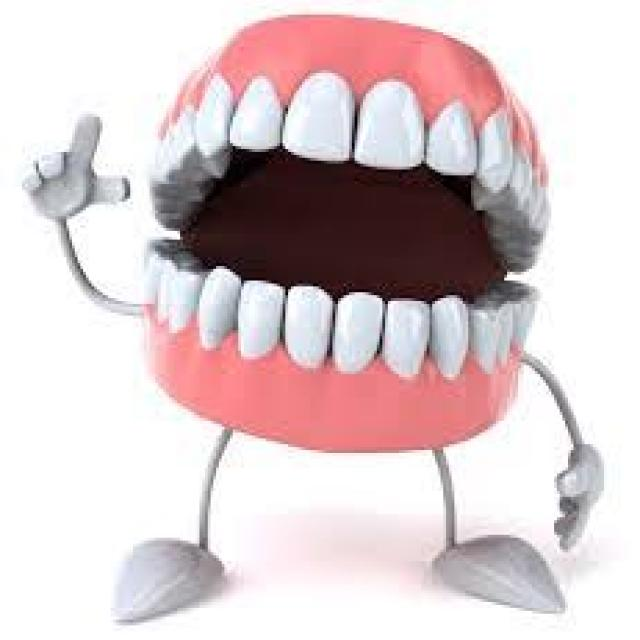tooth: (357, 76, 427, 169), (288, 76, 349, 164), (427, 94, 485, 178), (235, 275, 282, 368), (390, 295, 438, 386), (230, 76, 283, 155), (285, 284, 330, 371), (432, 295, 471, 386), (147, 257, 197, 327), (338, 292, 382, 371), (202, 266, 244, 348), (476, 108, 516, 187), (477, 301, 518, 371), (196, 76, 232, 155)
